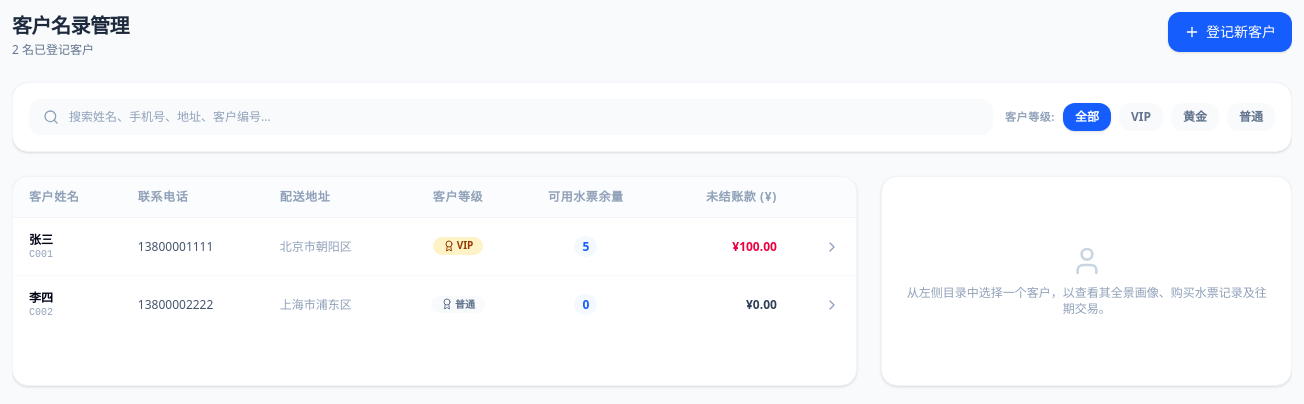
Test: CustomersTab Component › filters customers by phone search
The image size is (1304, 404).
In the field with placeholder "搜索姓名、手机号、地址、客户编号...": [511, 117] box top-left (29, 99), bottom-right (993, 135), type "13800002222"
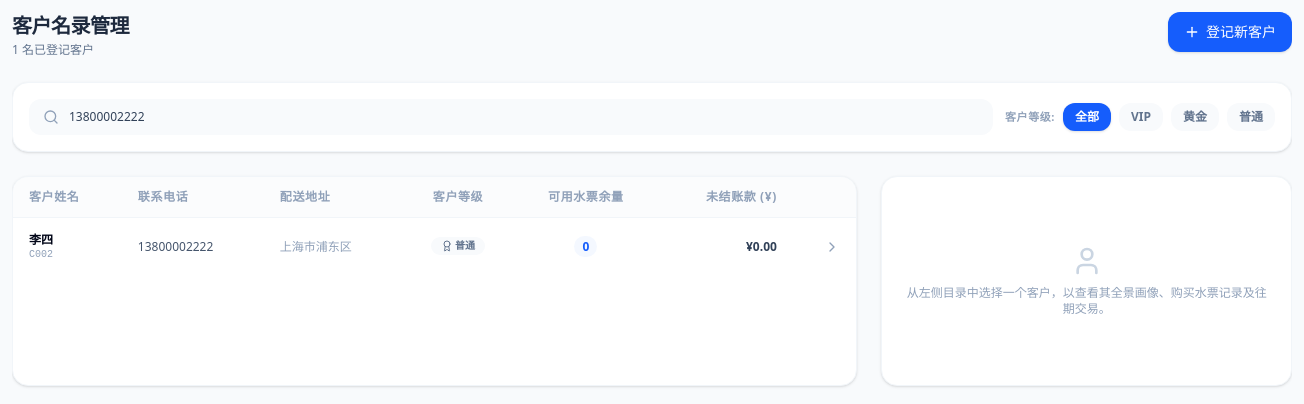
expect the text "李四" is shown: met, box top-left (29, 231), bottom-right (53, 248)
expect the text "张三" is gone: met
